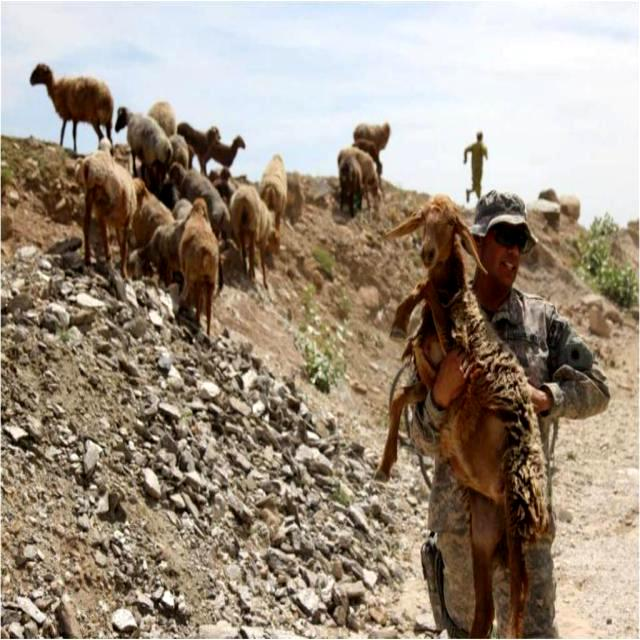sheep: (383, 199, 553, 637), (29, 63, 115, 145)
